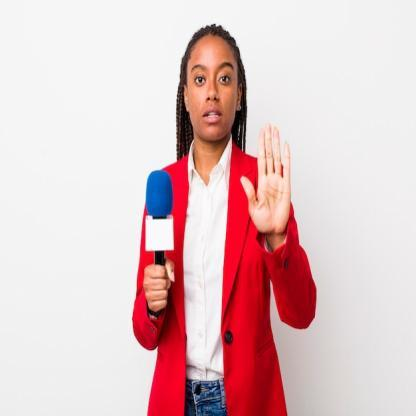stop: (240, 122, 297, 240)
